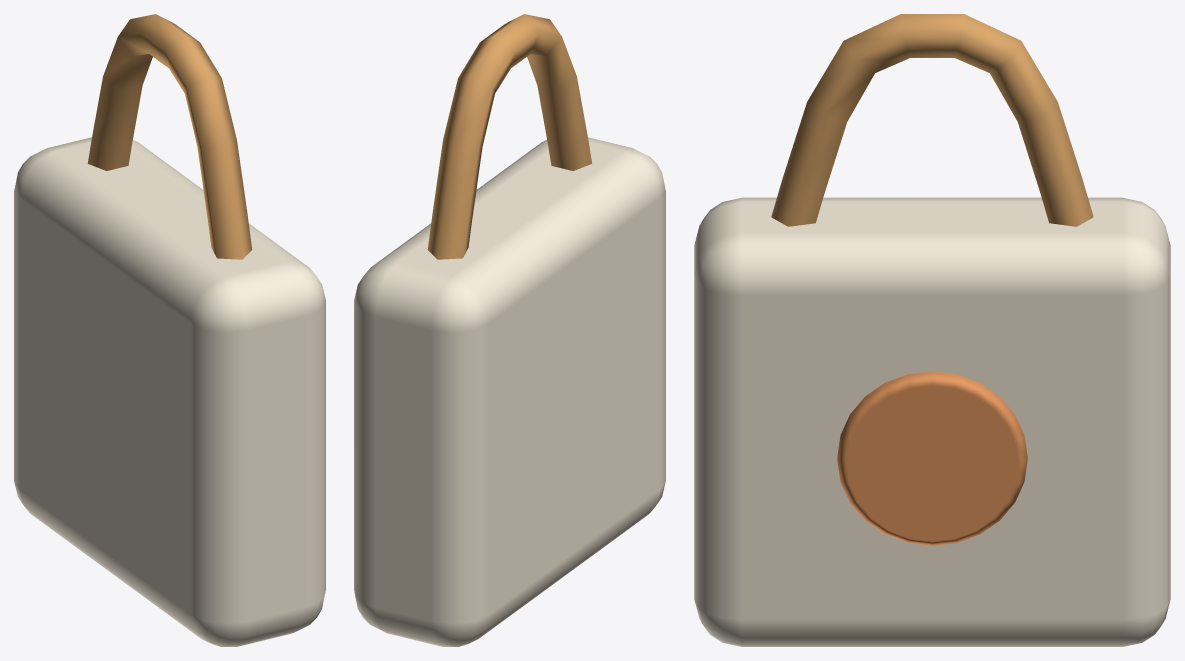
The model's file is bread_print_eco_bag.glb.
3 renders of one model, left to right at view 1: azimuth 30°, elevation 25°; view 2: azimuth 150°, elevation 25°; view 3: azimuth 270°, elevation 25°, orthographic. The views are drawn at different scales.
Parts seen in each view (by area): view 1: bread_print_eco_bag_ArmR; view 2: bread_print_eco_bag_ArmR; view 3: bread_print_eco_bag_ArmR.
Boxes of the visible parts, x1,y1,x2,y2 form: bread_print_eco_bag_ArmR: [14, 14, 325, 646]; bread_print_eco_bag_ArmR: [354, 14, 665, 646]; bread_print_eco_bag_ArmR: [694, 14, 1170, 646].
Size of the model in its own units: 0.076 by 0.2842 by 0.2.
